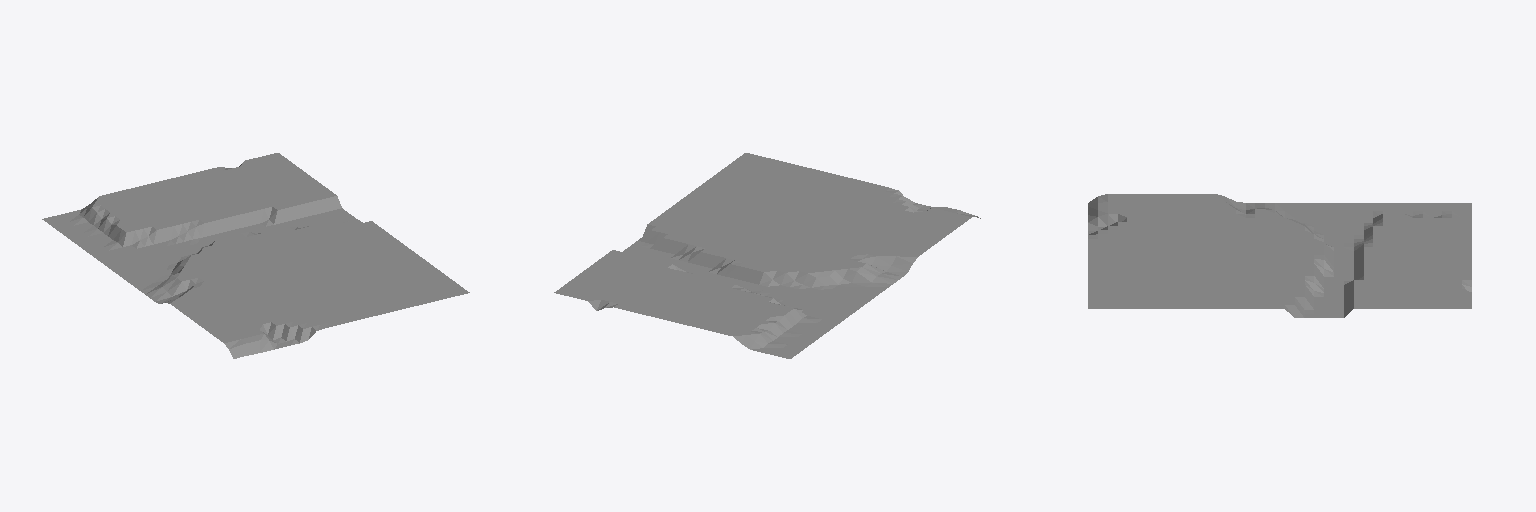
The model's file is Forest.obj.
3 views of the same model, side by side, from view 1: azimuth 30°, elevation 25°; view 2: azimuth 150°, elevation 25°; view 3: azimuth 270°, elevation 25° (orthographic).
Parts seen in each view (by area): view 1: default; view 2: default; view 3: default.
Boxes of the visible parts, x1=… form: default: x1=42, y1=153, x2=469, y2=358; default: x1=554, y1=153, x2=980, y2=358; default: x1=1088, y1=194, x2=1471, y2=317.
Size of the model in its own units: 27.79 by 1.01 by 39.08.